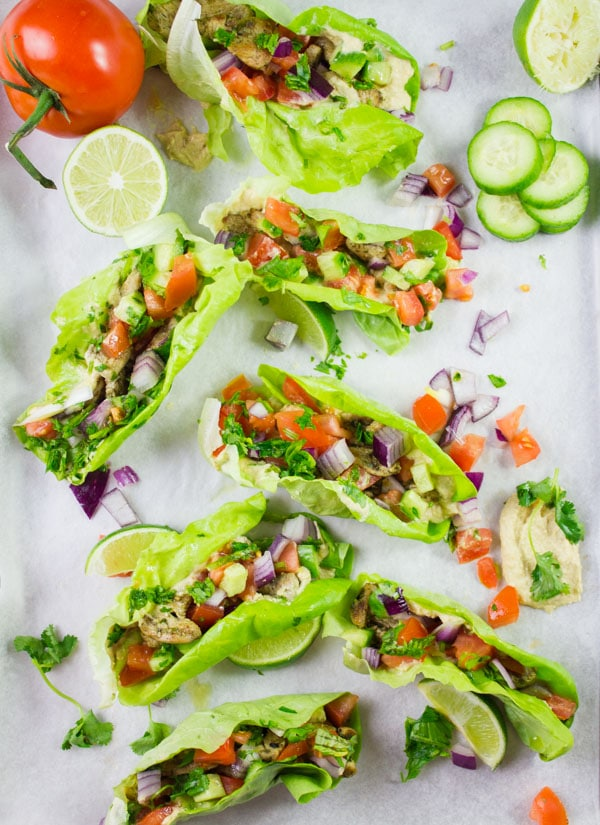chopped lettuce: (181, 82, 417, 192), (221, 473, 454, 563), (381, 662, 565, 739), (138, 684, 349, 744), (26, 278, 94, 401)
